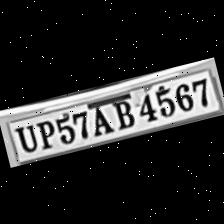4: (131, 87, 158, 125)
5: (150, 82, 176, 120), (50, 110, 76, 146)
6: (170, 79, 195, 114)
7: (68, 106, 94, 142), (188, 73, 214, 109)
A: (86, 99, 114, 137)
B: (106, 92, 136, 132)
P: (32, 115, 58, 151)
U: (10, 120, 39, 156)
